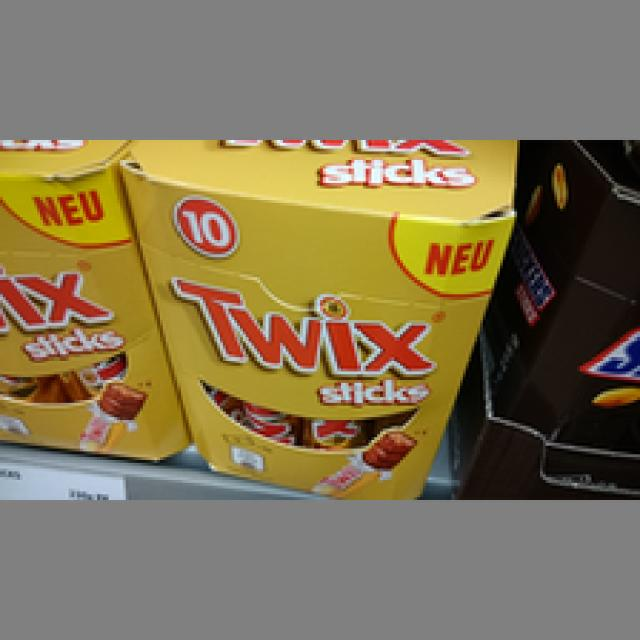groceries: (120, 140, 511, 491), (0, 137, 191, 462), (489, 140, 637, 486)
